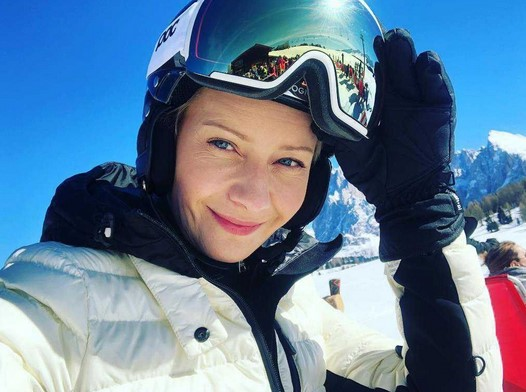face_no_mask: (162, 58, 318, 277)
